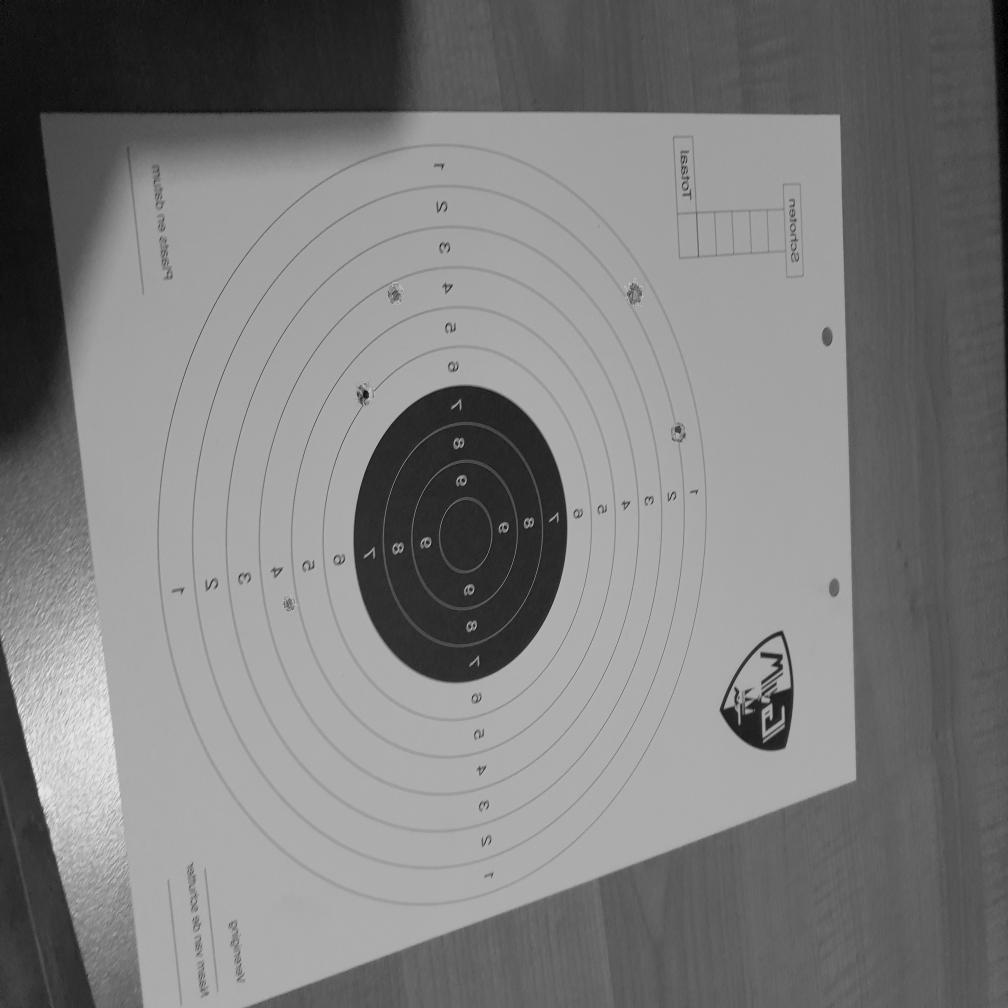1: (626, 280, 644, 308)
2: (672, 420, 686, 445)
4: (387, 282, 404, 307), (283, 592, 299, 612)
6: (356, 380, 374, 406)
Target: (158, 142, 708, 912)
black_contour: (353, 384, 567, 684)
